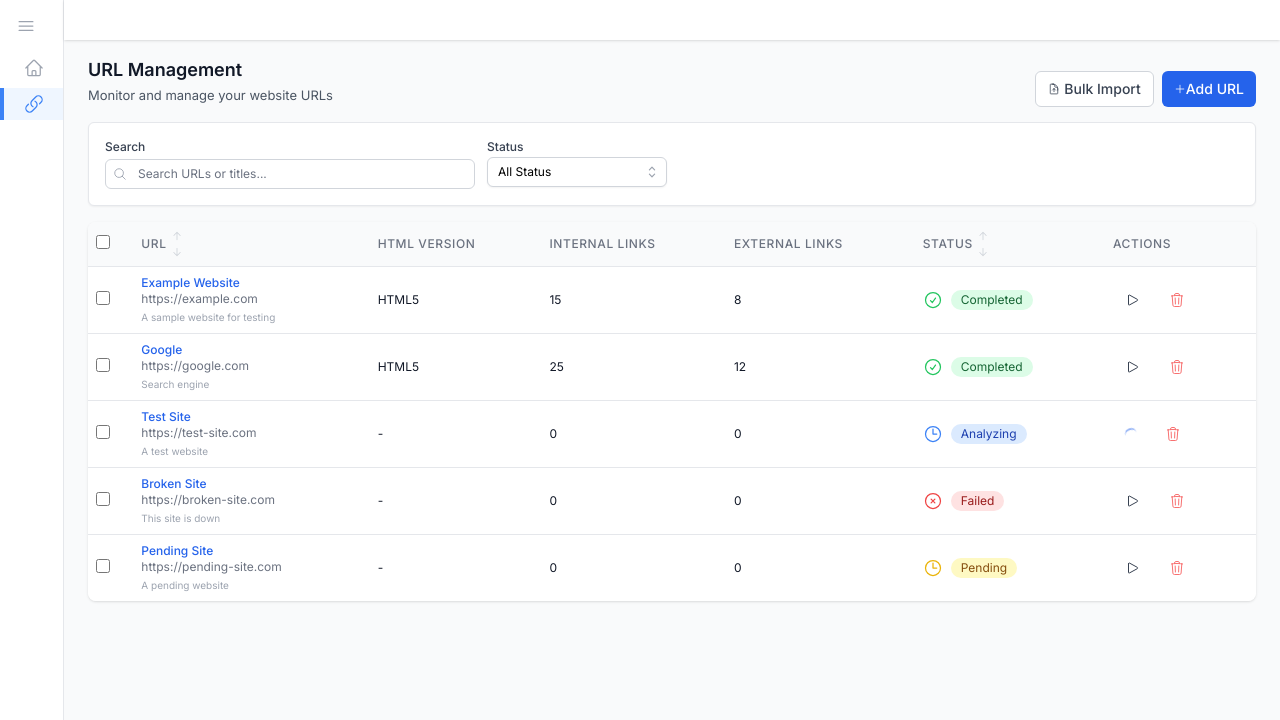
Test case: URL Management - Delete URL › should cancel deletion when pressing Escape key
This screenshot has width=1280, height=720.
Check: the table with test id "url-table" is shown, box x1=88 y1=222 x2=1256 y2=601
Click the button with test id "delete-url-button": {"x": 1177, "y": 300} x1=1157 y1=282 x2=1197 y2=318
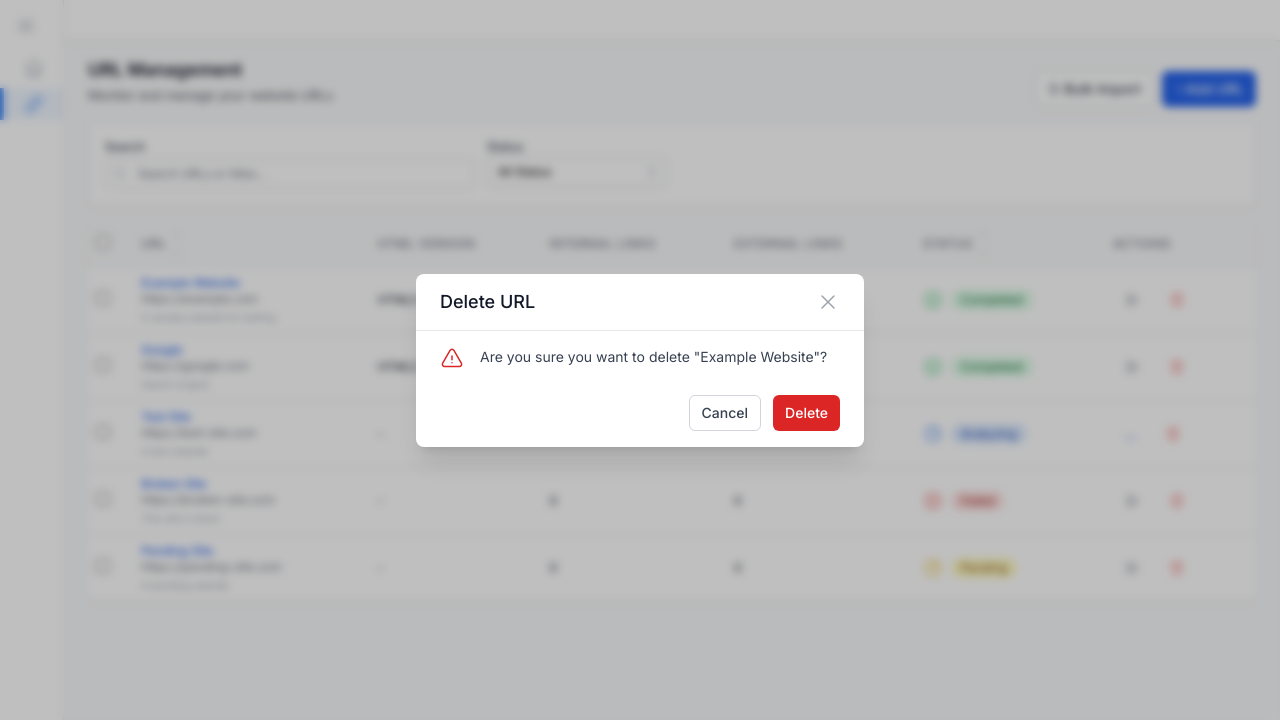
Check: the element with test id "confirmation-dialog" is shown, box x1=416 y1=274 x2=864 y2=447
Press Esc
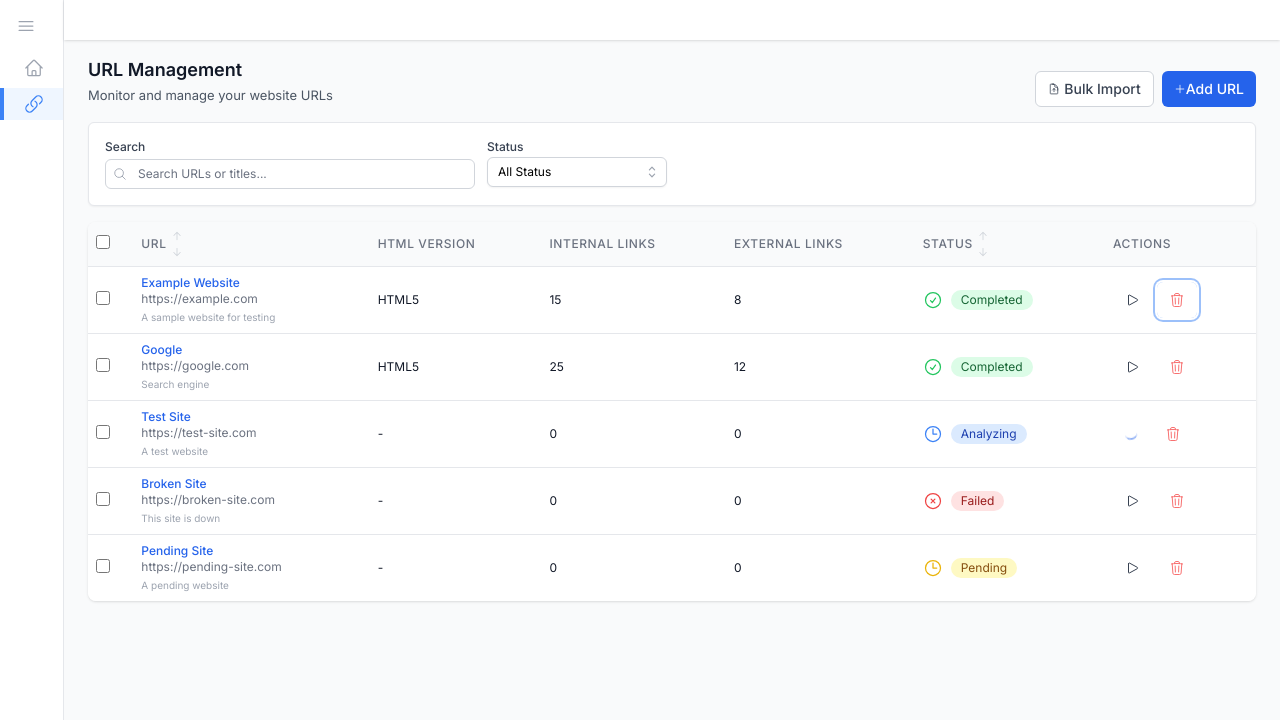
Check: the element with test id "confirmation-dialog" is gone
